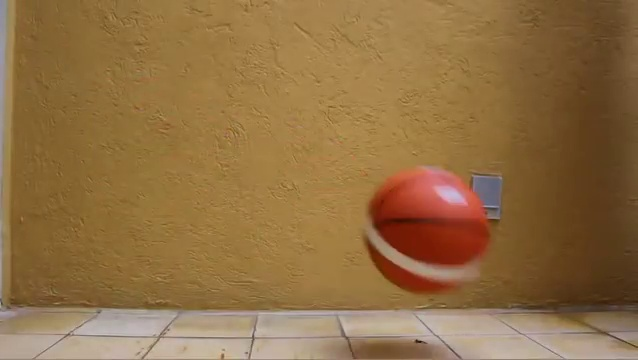ball: (363, 165, 491, 293)
